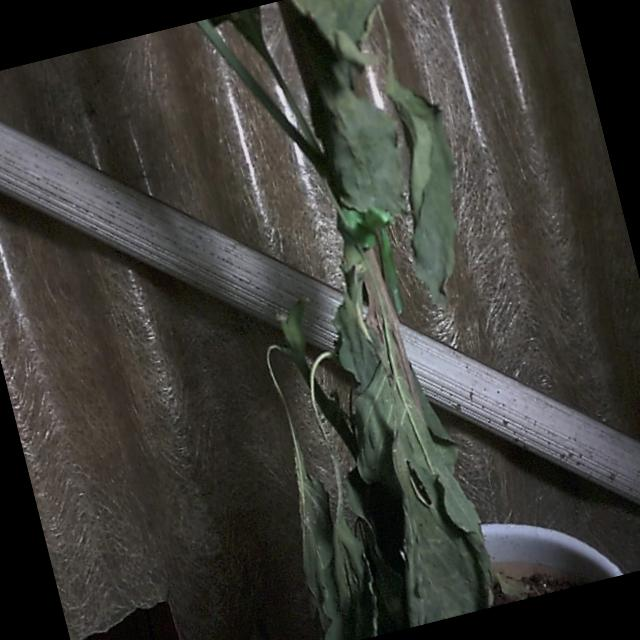Leaf: (387, 73, 456, 305), (325, 87, 405, 216), (292, 0, 381, 66)
